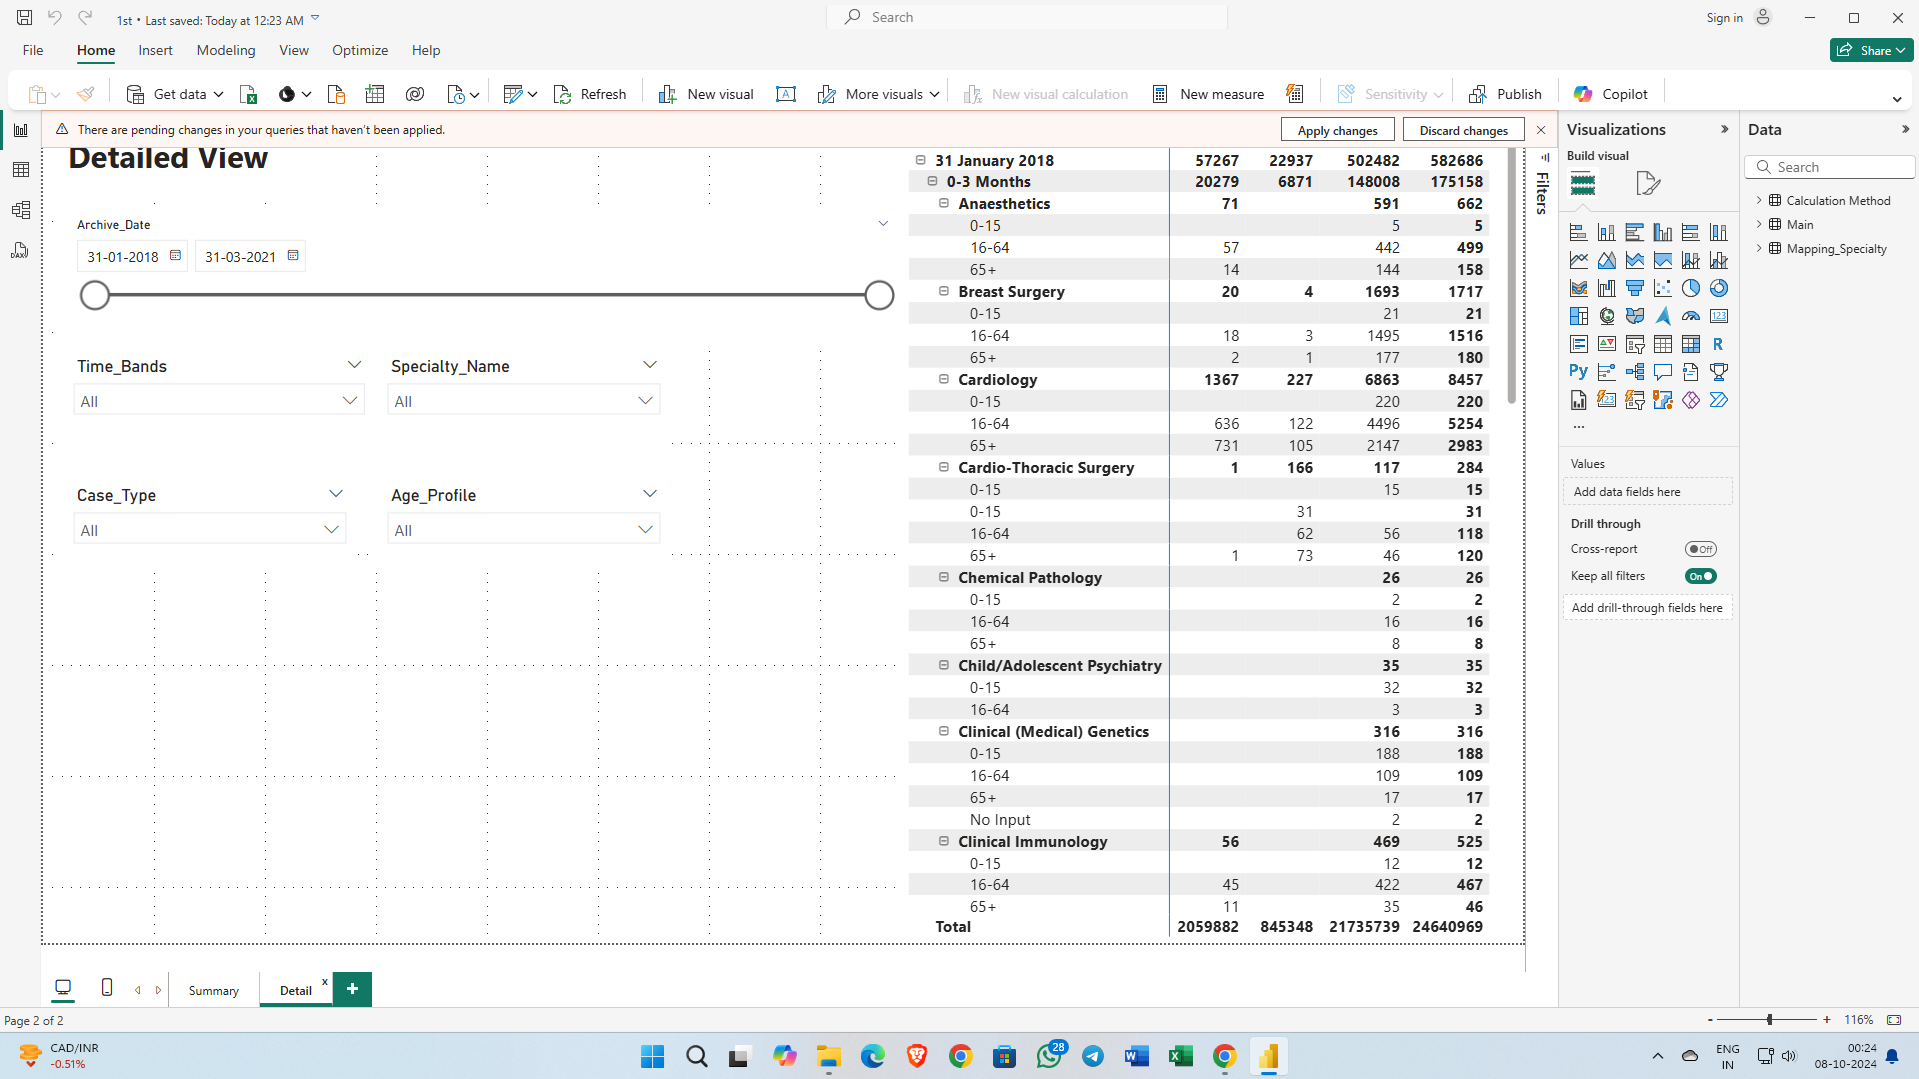

What the dashboard file says about the page in this screenshot:
{"tool":"powerbi","page":{"name":"Detail","canvas":[1280,720],"ordinal":1},"visuals":[{"type":"slicer","fields":{"Values":["Main.Archive_Date"]},"box":[16,88,728,120],"z":0},{"type":"textbox","box":[16,16,192,64],"z":1000},{"type":"slicer","fields":{"Values":["Main.Case_Type"]},"box":[16,320,256,80],"z":2000},{"type":"slicer","fields":{"Values":["Main.Specialty_Name"]},"box":[288,208,256,112],"z":3000},{"type":"slicer","fields":{"Values":["Main.Age_Profile"]},"box":[288,320,256,80],"z":4000},{"type":"slicer","fields":{"Values":["Main.Time_Bands"]},"box":[16,208,272,112],"z":5000},{"type":"pivotTable","fields":{"Rows":["Main.Archive_Date","Main.Time_Bands","Main.Specialty_Name","Main.Age_Profile"],"Columns":["Main.Case_Type"],"Values":["Sum(Main.Total)"]},"box":[744,0,536,720],"z":6000}]}

Visuals, with their boxes on the page's 1280x720 design canvas (x1, y1, x2, y2). These are canvas units, not pixel positions in the 1919x1079 screenshot, which may show the page scaled, cropped or inside an application window:
slicer - Main.Archive_Date: [left=16, top=88, right=744, bottom=208]
textbox: [left=16, top=16, right=208, bottom=80]
slicer - Main.Case_Type: [left=16, top=320, right=272, bottom=400]
slicer - Main.Specialty_Name: [left=288, top=208, right=544, bottom=320]
slicer - Main.Age_Profile: [left=288, top=320, right=544, bottom=400]
slicer - Main.Time_Bands: [left=16, top=208, right=288, bottom=320]
pivotTable - Main.Archive_Date x Main.Time_Bands: [left=744, top=0, right=1280, bottom=720]
